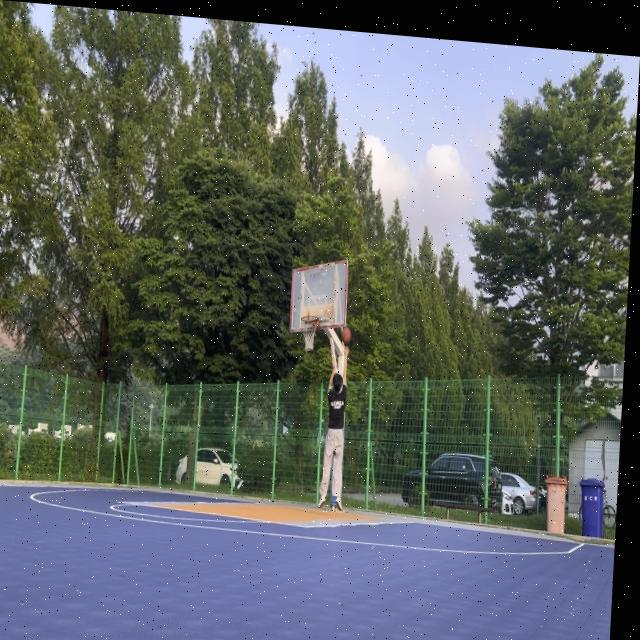basketball: (340, 326, 351, 345)
hoop: (299, 315, 319, 353)
